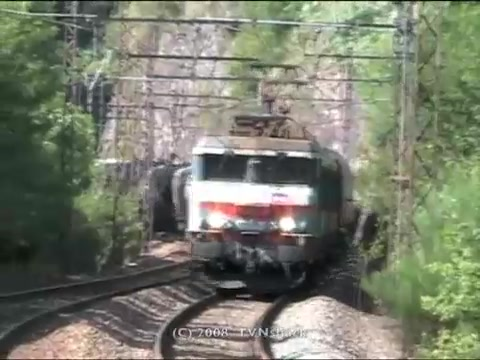train: (93, 111, 352, 294)
